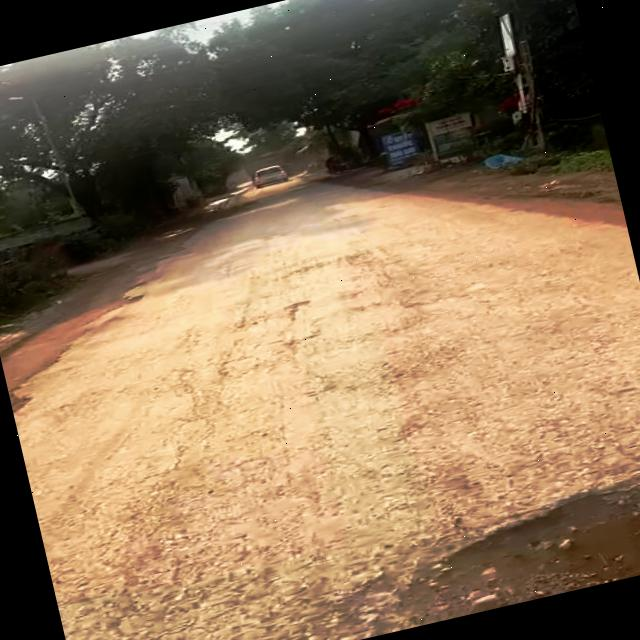pothole: (373, 460, 640, 630)
